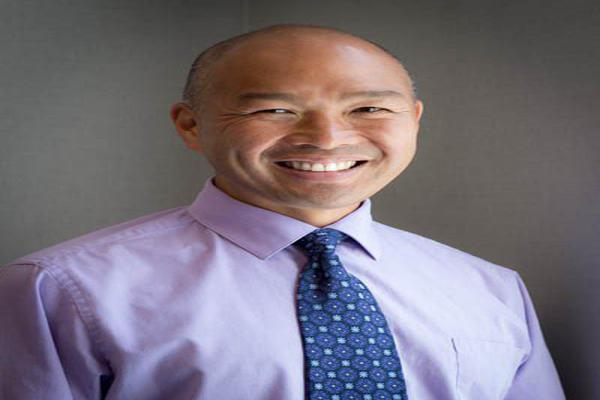Chinese: (222, 56, 417, 203)
